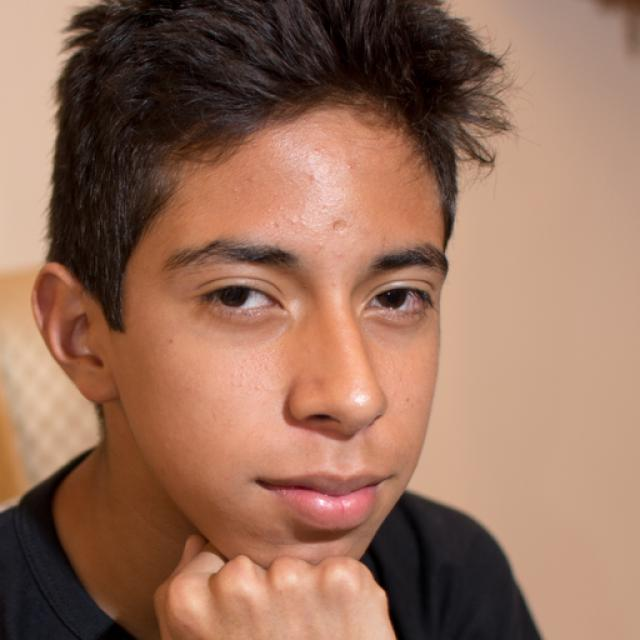Acne: (285, 211, 308, 228), (308, 241, 331, 257), (304, 168, 322, 185), (341, 162, 358, 176)
